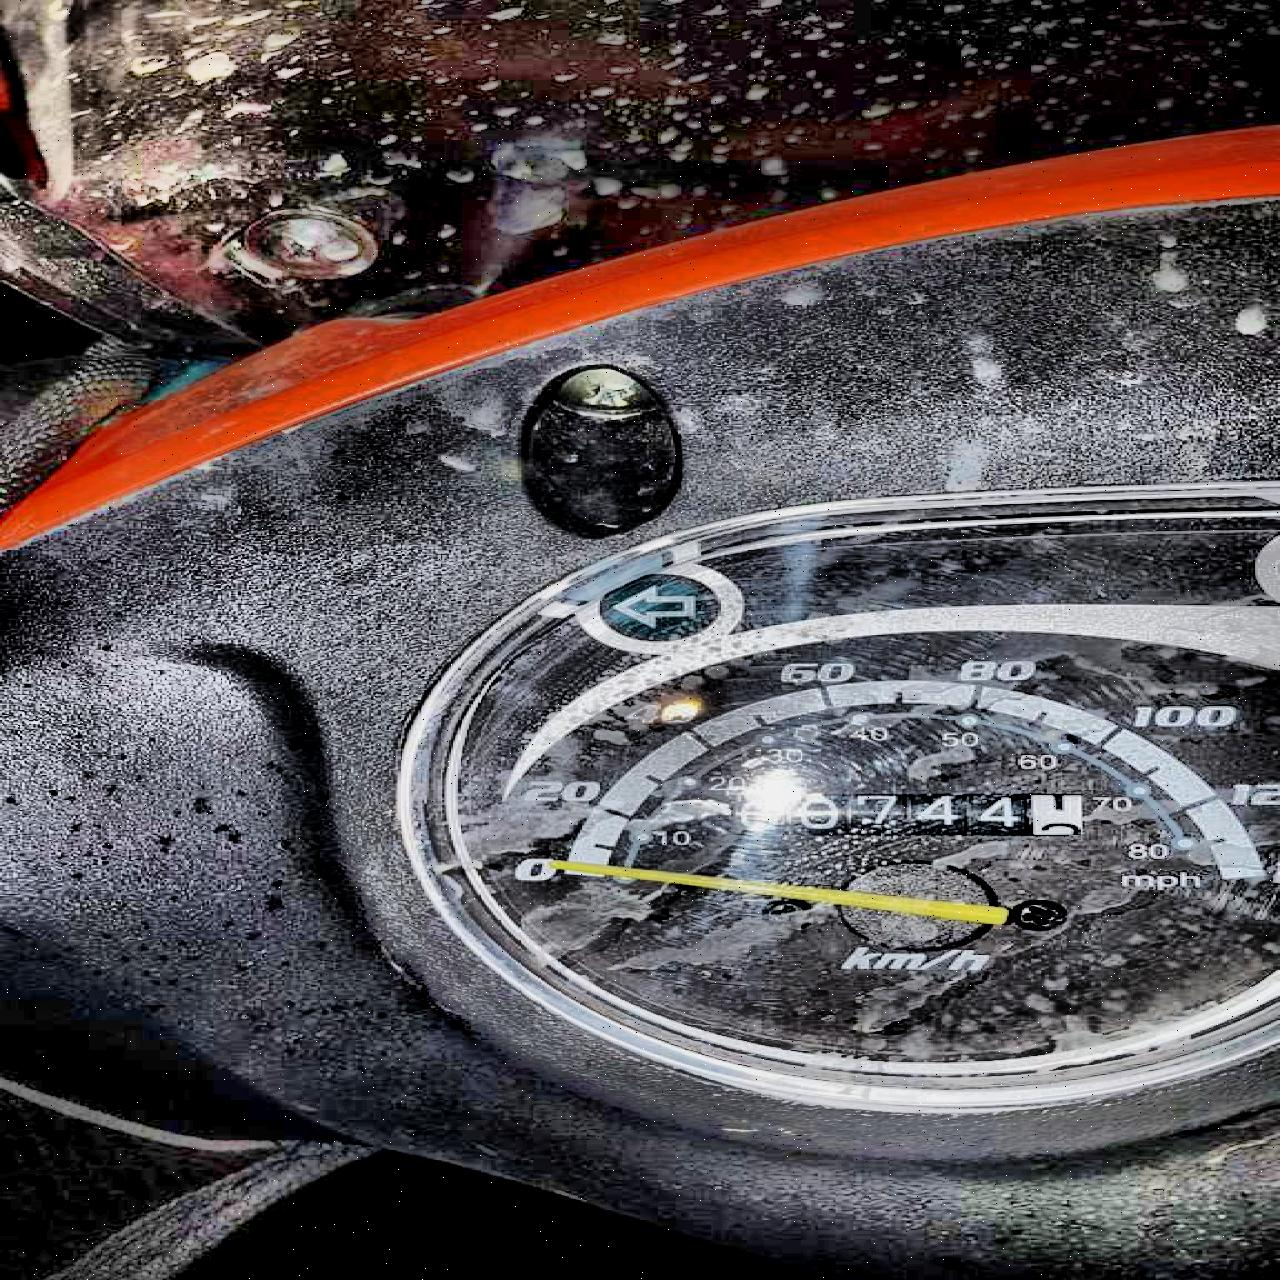0: (796, 797, 837, 828)
1: (1049, 788, 1064, 811)
4: (913, 794, 955, 825), (975, 795, 1017, 826)
7: (853, 794, 896, 824)
odometer: (720, 790, 1084, 836)
